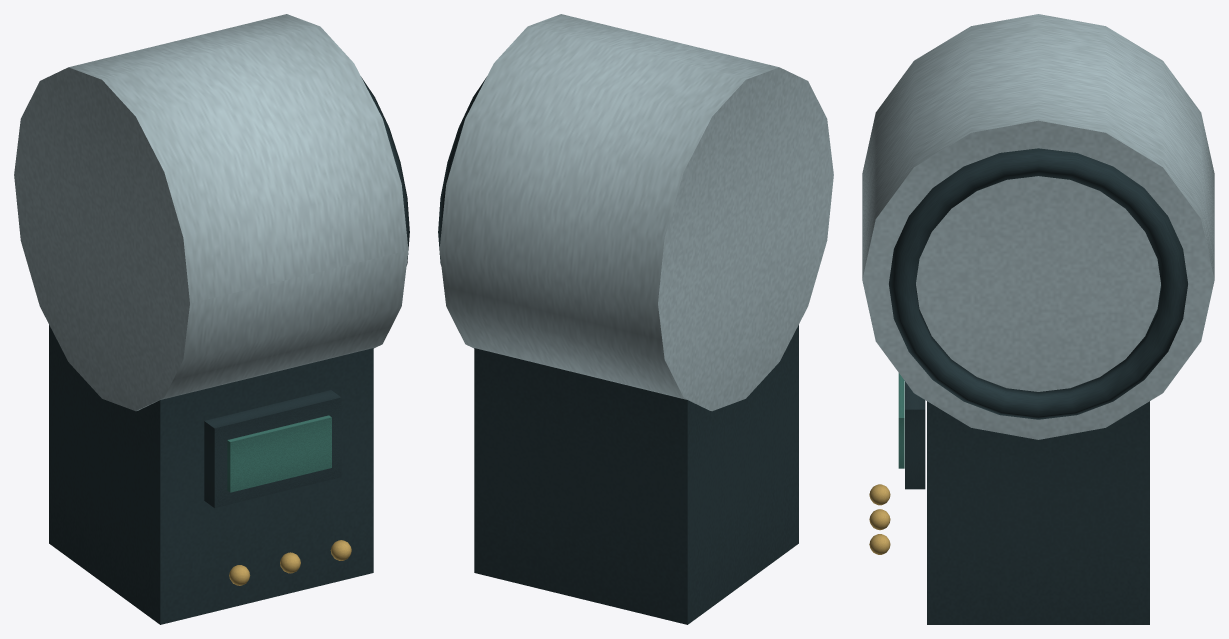
File: feeder_2.glb
3 renders of one model, left to right at view 1: azimuth 30°, elevation 25°; view 2: azimuth 150°, elevation 25°; view 3: azimuth 270°, elevation 25°, orthographic.
Visible parts, largest first — view 1: static_ornament; view 2: static_ornament; view 3: static_ornament.
Boxes of the visible parts, x1,y1,x2,y2 form: static_ornament: (14, 14, 409, 624); static_ornament: (438, 14, 833, 624); static_ornament: (862, 14, 1214, 624).
Size of the model in its own units: 0.4688 by 0.95 by 0.6.
1 material, 1 textured.
